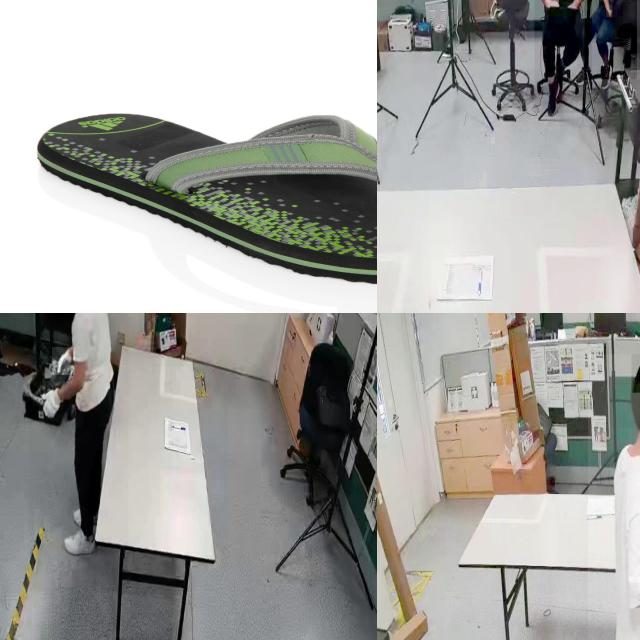Sandals: (34, 110, 377, 285)
hand_glove: (40, 381, 64, 423), (52, 347, 74, 375)
hand_noglove: (545, 0, 559, 8), (566, 1, 579, 9), (606, 6, 613, 18)
person: (29, 313, 129, 591), (588, 354, 640, 640), (534, 0, 592, 114), (584, 0, 637, 80)
shoes: (62, 522, 100, 564), (544, 74, 562, 120)
